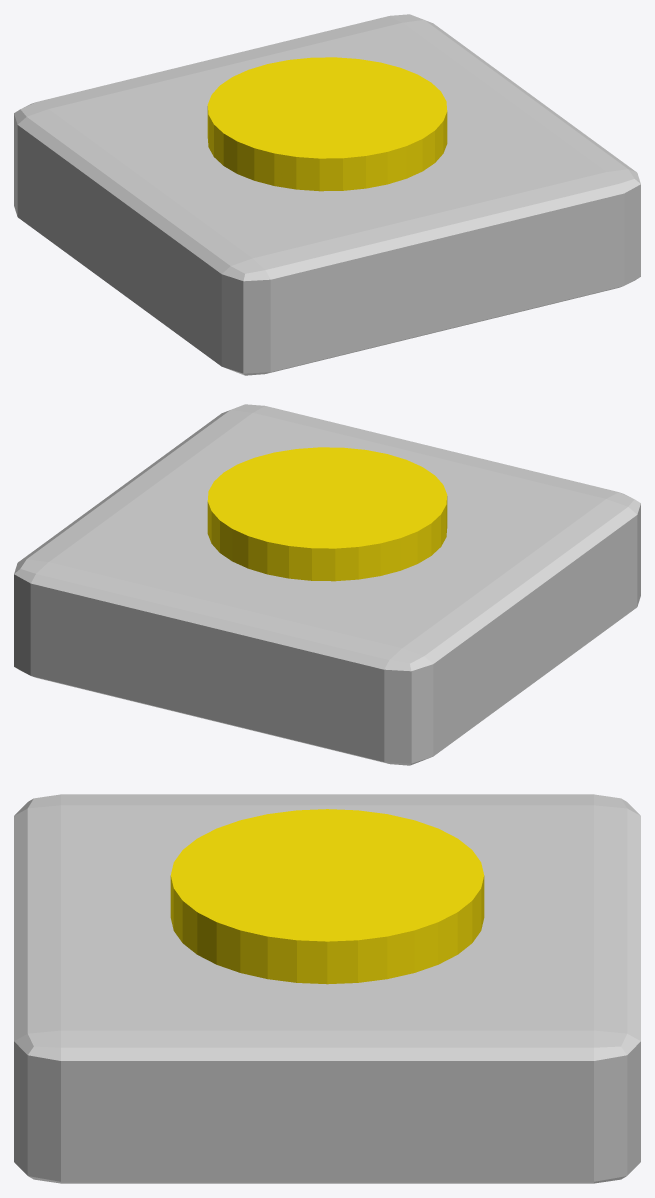
The model's file is button.glb.
The picture shows the model from 3 angles, top to bottom: view 1: azimuth 30°, elevation 25°; view 2: azimuth 150°, elevation 25°; view 3: azimuth 270°, elevation 25°; orthographic projection. The views are drawn at different scales.
Visible parts, largest first — view 1: button, pole; view 2: button, pole; view 3: button, pole.
Boxes of the visible parts, x1=… form: button: x1=14, y1=14, x2=640, y2=375; pole: x1=207, y1=57, x2=447, y2=191; button: x1=14, y1=404, x2=640, y2=765; pole: x1=207, y1=447, x2=447, y2=581; button: x1=14, y1=794, x2=640, y2=1183; pole: x1=170, y1=809, x2=484, y2=984.
Size of the model in its own units: 2 by 0.65 by 2.
